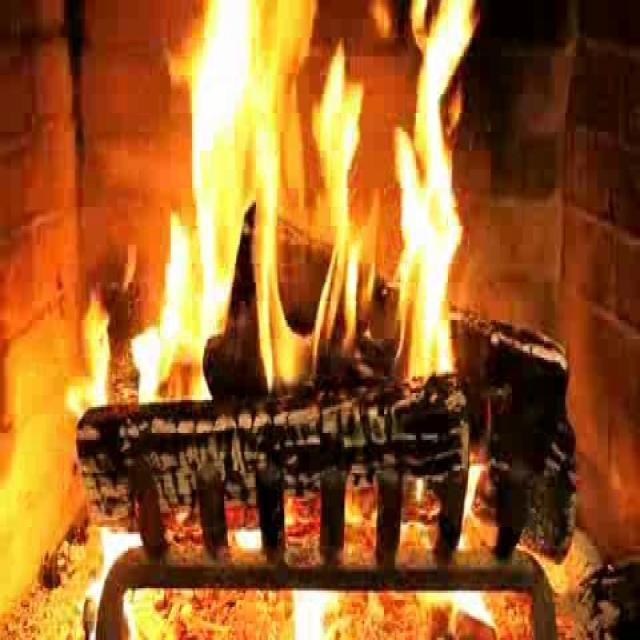fire: (152, 16, 470, 386)
